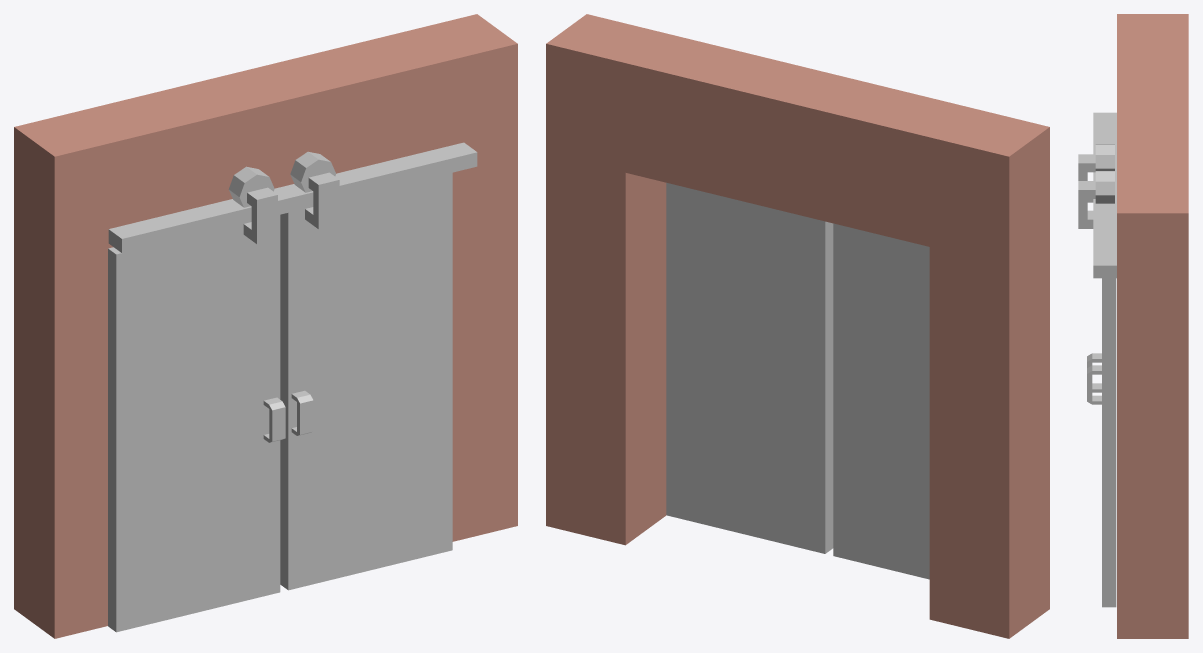
The model's file is Door2Unity.dae.
3 renders of one model, left to right at view 1: azimuth 30°, elevation 25°; view 2: azimuth 150°, elevation 25°; view 3: azimuth 270°, elevation 25°, orthographic. The views are drawn at different scales.
Visible parts, largest first — view 1: Cube; view 2: Cube; view 3: Cube.
Part boxes in pixels (<box>): Cube: <box>14,14,517,638</box>; Cube: <box>546,14,1049,638</box>; Cube: <box>1078,14,1188,638</box>.
Size of the model in its own units: 5.64 by 1.32 by 5.62.
